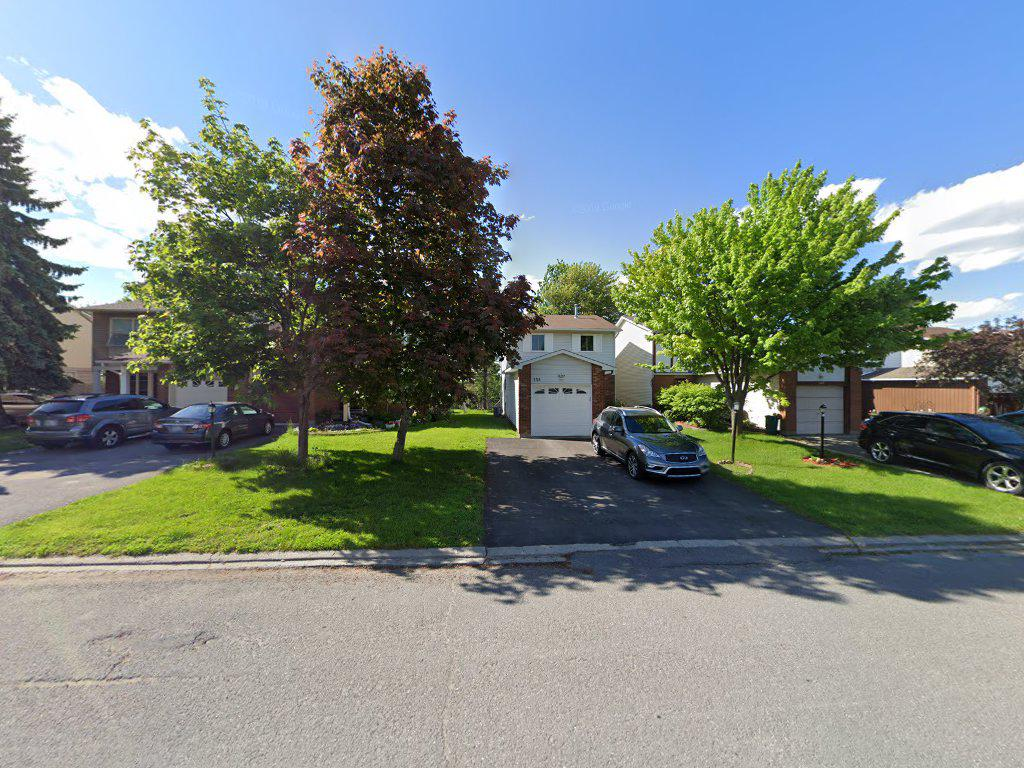trunk: (720, 364, 751, 467), (294, 394, 314, 472), (394, 418, 411, 462)
